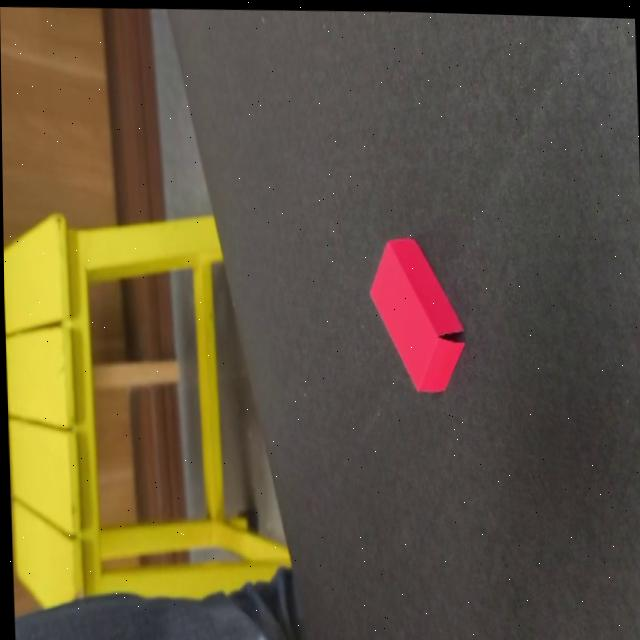red block: (365, 234, 466, 397)
